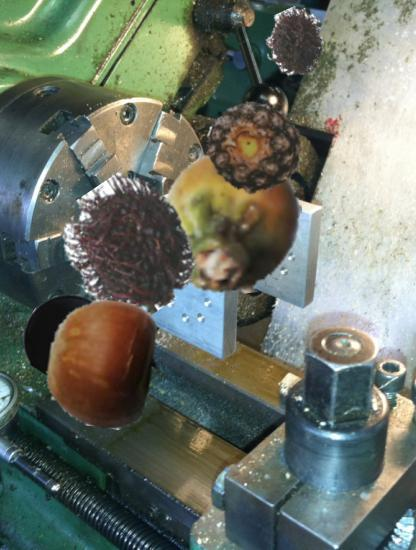Cactus: (156, 148, 303, 295)
Grape: (25, 292, 116, 383)
Nut: (37, 300, 164, 427)
Pineapple: (205, 98, 305, 198)
Rambutan: (59, 180, 197, 318), (262, 9, 328, 75)
